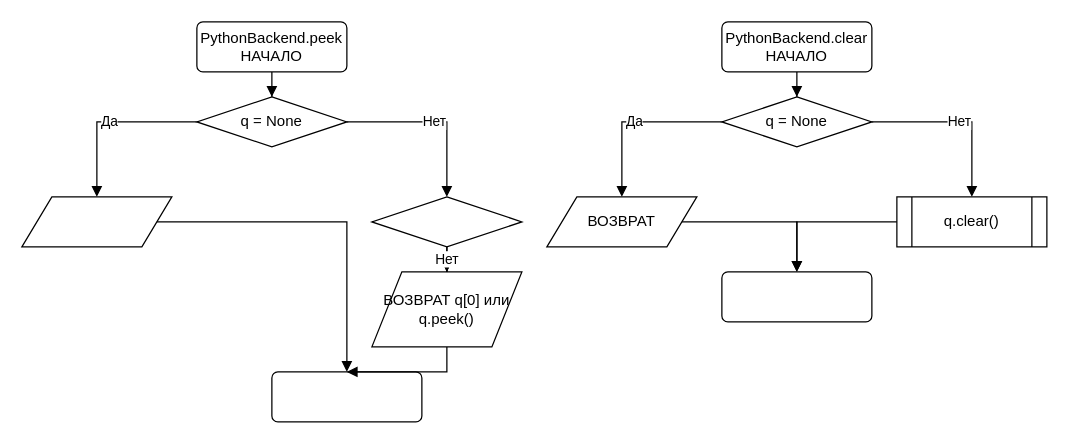
Image size: 1069x444. Some labels were removed from this diagram. The centre of each missing label's shape, as x and y in pixels:
"is_list = 1" goes at (446,221).
"ВОЗВРАТ None" goes at (96,221).
"КОНЕЦ PythonBackend.clear" goes at (796,296).
"КОНЕЦ PythonBackend.peek" goes at (346,396).
